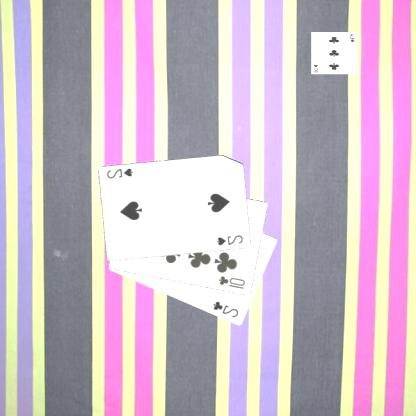10C: (218, 273, 248, 291)
2C: (212, 298, 242, 320)
2S: (106, 165, 137, 180), (216, 232, 246, 247)
